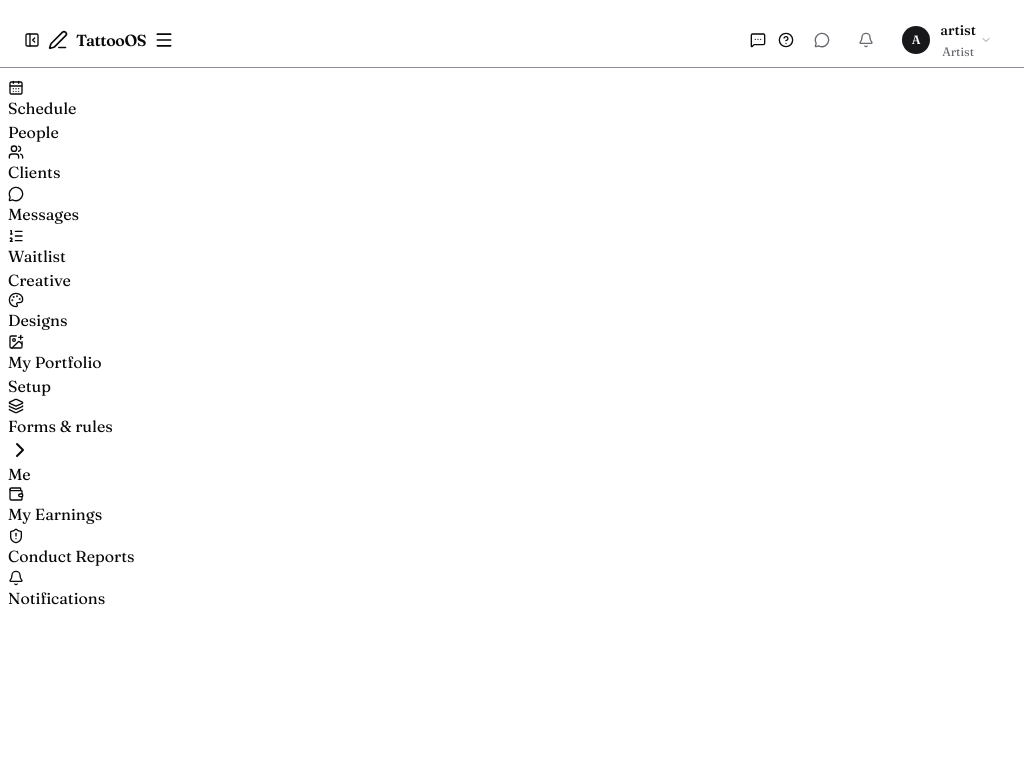
Test case: ArtistLayout › renders the static artist nav links, categorised
This screenshot has width=1024, height=780.
Check: the text "Clients" is shown, box [8,162,60,182]
Check: the text "Creative" is shown, box [8,270,71,290]
Click the button "Forms & rules".
click(60, 430)  # box [8,398,113,462]
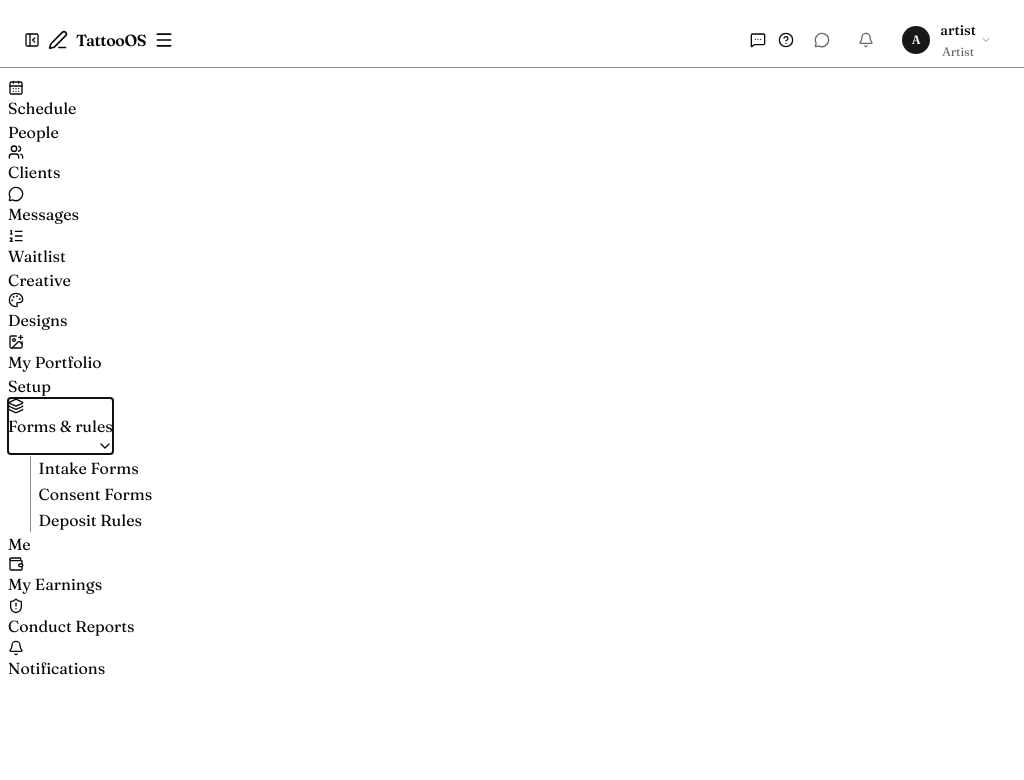
Check: the link "Intake Forms" is shown, box [39,456,152,480]
Check: the link "Consent Forms" is shown, box [39,482,152,506]
Check: the link "Deposit Rules" is shown, box [39,508,152,532]
